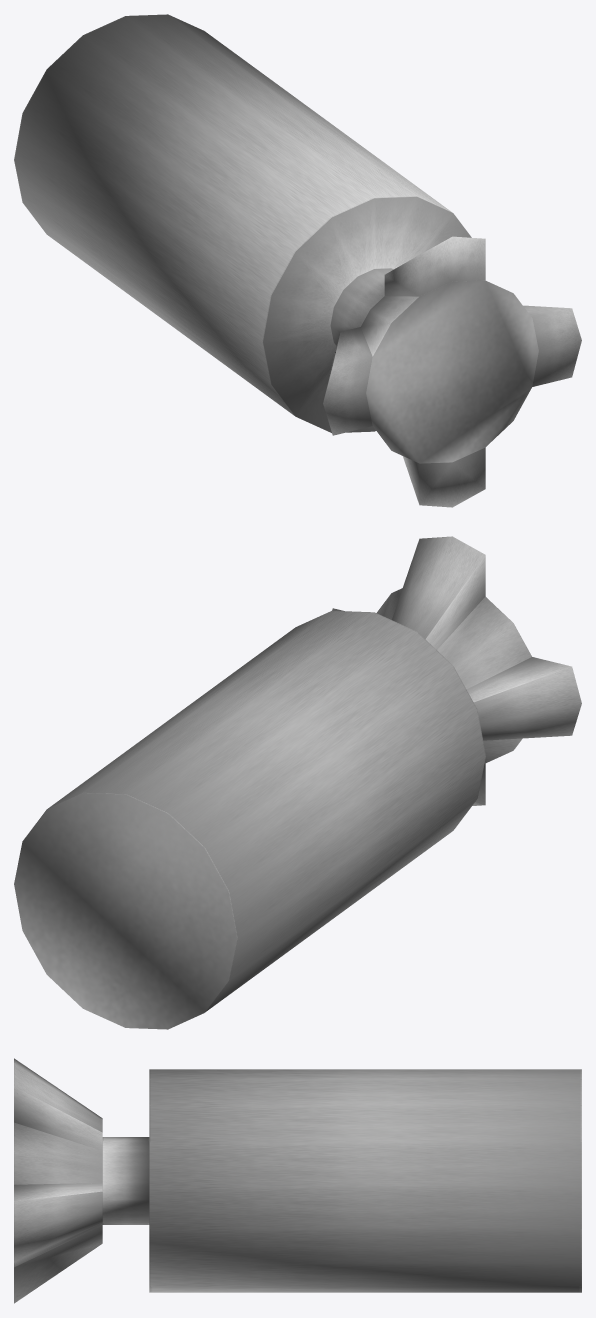
Rendered from item_rocket.obj.
3 renders of one model, top to bottom at view 1: azimuth 30°, elevation 25°; view 2: azimuth 150°, elevation 25°; view 3: azimuth 270°, elevation 25°, orthographic. The views are drawn at different scales.
Visible parts, largest first — view 1: Cylinder; view 2: Cylinder; view 3: Cylinder.
Boxes of the visible parts, box(x1,y1,x2,y2) form: Cylinder: box(14, 14, 581, 507); Cylinder: box(14, 536, 581, 1029); Cylinder: box(14, 1058, 581, 1303).
Bounding box in the file's own units: 0.0418 × 0.0418 × 0.0914.
